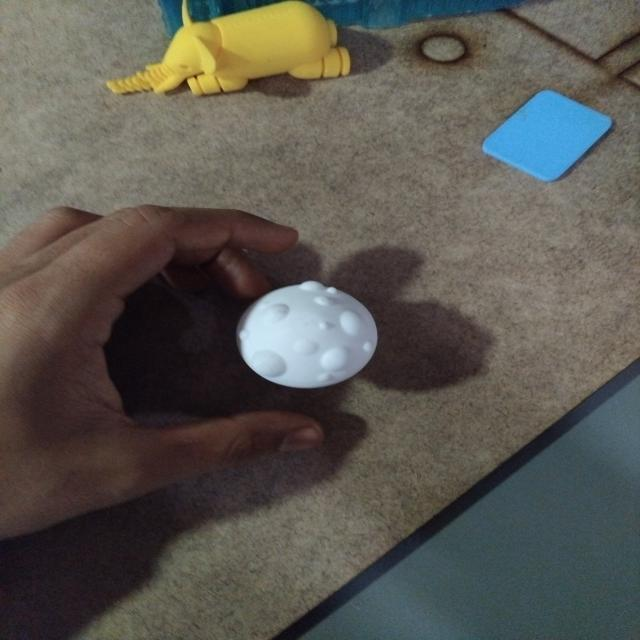Hongo: (231, 278, 386, 394)
